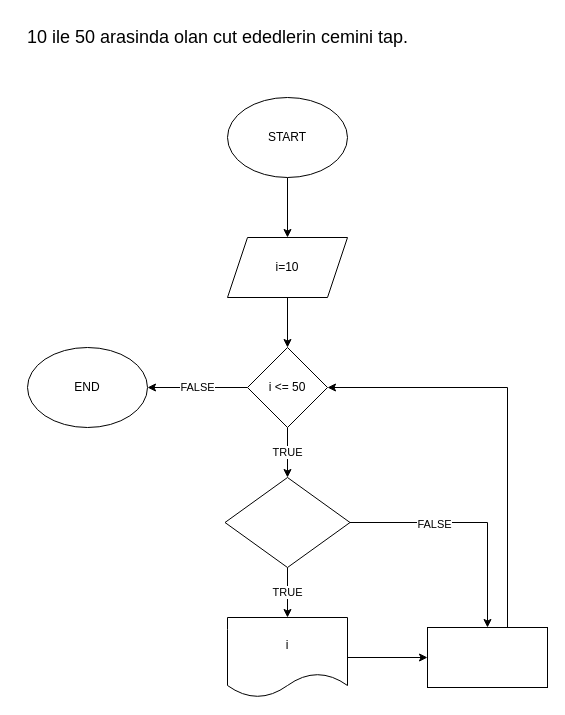
The diagram is 565 pixels wide and 715 high, and some of its shapes have lost their labels. Each missing label, with the centre of its shape:
"i % 2==0" goes at [287,522].
"i ++" goes at [487,657].
